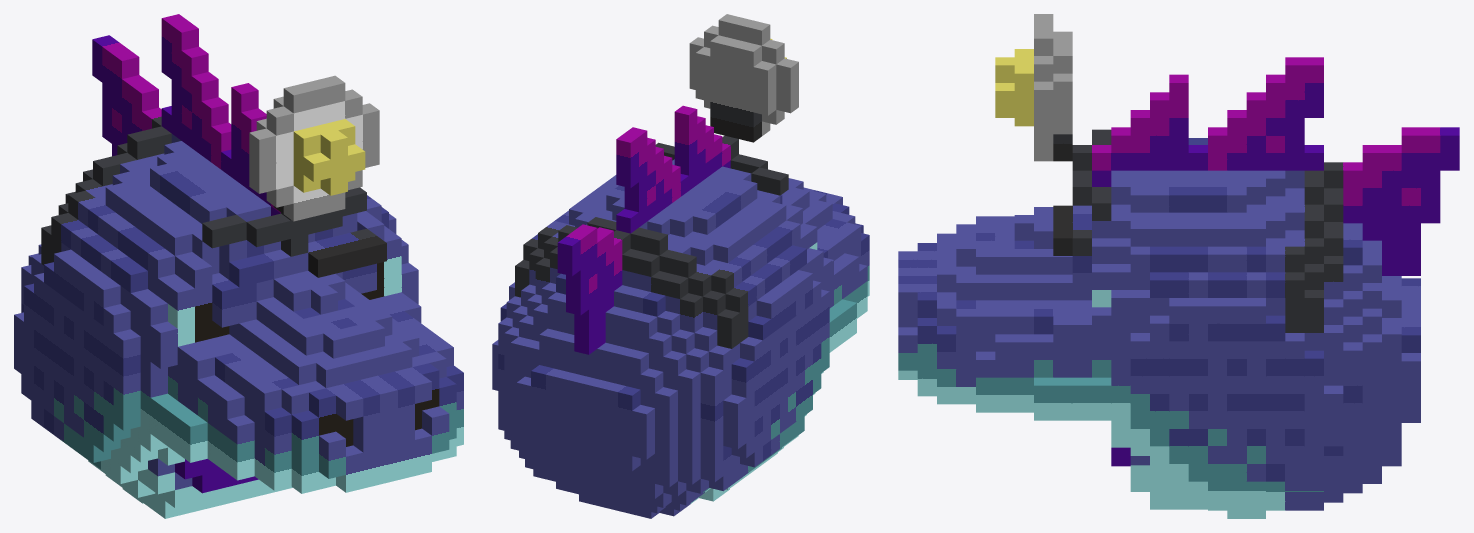
The model's file is doctor_vr goggles.gltf.
The picture shows the model from 3 angles, left to right: view 1: azimuth 30°, elevation 25°; view 2: azimuth 150°, elevation 25°; view 3: azimuth 270°, elevation 25°; orthographic projection. The views are drawn at different scales.
Parts seen in each view (by area): view 1: C16_H_DoctorL_LazerL_VRGg-Mesh; view 2: C16_H_DoctorL_LazerL_VRGg-Mesh; view 3: C16_H_DoctorL_LazerL_VRGg-Mesh.
Boxes of the visible parts, <box> form: C16_H_DoctorL_LazerL_VRGg-Mesh: <box>14,14,463,518</box>; C16_H_DoctorL_LazerL_VRGg-Mesh: <box>492,14,869,518</box>; C16_H_DoctorL_LazerL_VRGg-Mesh: <box>898,14,1459,518</box>.
Size of the model in its own units: 17 by 26 by 29.
1 material, 1 textured.
